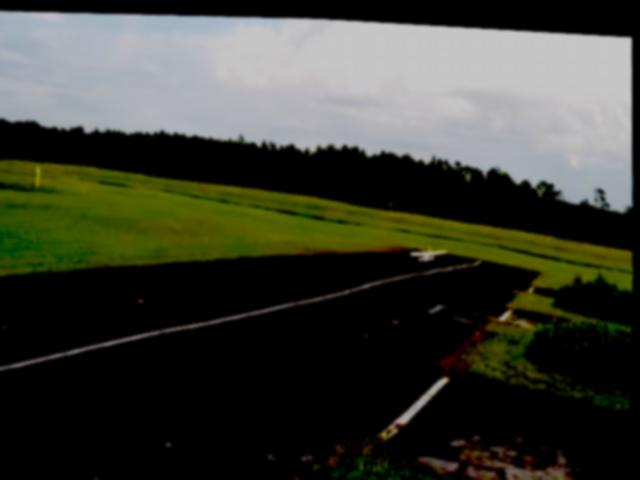uav: (405, 233, 452, 262)
